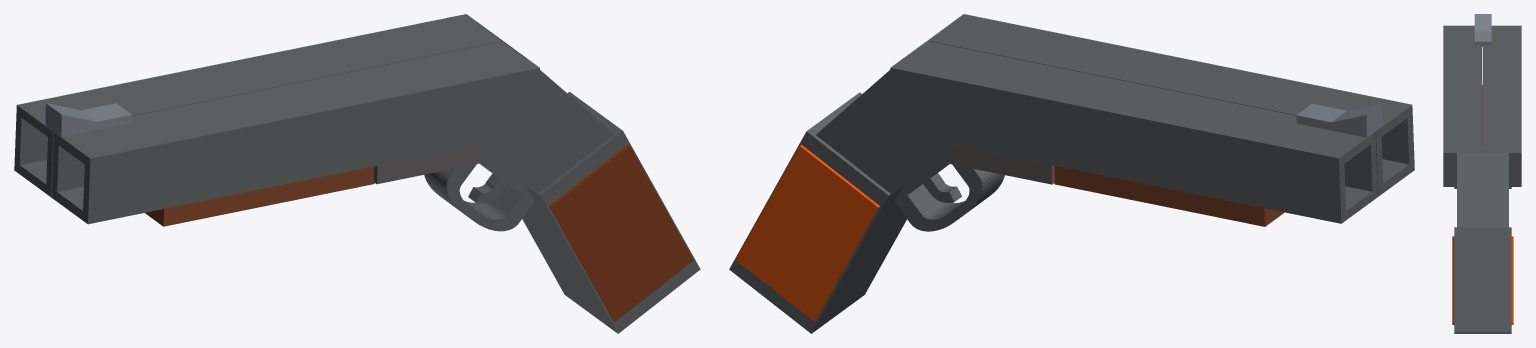
File: shotgun.fbx
The picture shows the model from 3 angles, left to right: view 1: azimuth 30°, elevation 25°; view 2: azimuth 150°, elevation 25°; view 3: azimuth 270°, elevation 25°; orthographic projection. The views are drawn at different scales.
Visible parts, largest first — view 1: BarrelLeft, Barrel, GripLeft, UpperGrip, Stock, Pump, Sight, TopTrigger; view 2: Barrel, BarrelLeft, GripRight, UpperGrip, Stock, Pump, TopTrigger, Sight; view 3: Stock, Barrel, BarrelLeft, UpperGrip, Sight, GripRight, GripLeft.
Boxes of the visible parts, box(x1,y1,x2,y2) form: BarrelLeft: box(51, 41, 539, 224); Barrel: box(14, 14, 501, 196); GripLeft: box(549, 144, 693, 321); UpperGrip: box(424, 22, 613, 231); Stock: box(522, 92, 700, 333); Pump: box(145, 166, 374, 226); Sight: box(45, 103, 131, 136); TopTrigger: box(374, 144, 481, 184); Barrel: box(890, 41, 1377, 223); BarrelLeft: box(929, 14, 1414, 196); GripRight: box(736, 145, 879, 321); UpperGrip: box(816, 23, 1004, 231); Stock: box(729, 92, 906, 333); Pump: box(1054, 166, 1284, 226); TopTrigger: box(947, 144, 1055, 184); Sight: box(1296, 103, 1382, 137); Stock: box(1454, 227, 1511, 333); Barrel: box(1482, 25, 1521, 186); BarrelLeft: box(1443, 25, 1481, 186); UpperGrip: box(1457, 152, 1508, 227); Sight: box(1474, 14, 1491, 46); GripRight: box(1511, 236, 1513, 324); GripLeft: box(1452, 236, 1454, 324).
Size of the model in its own units: 1344 by 694 by 275.
